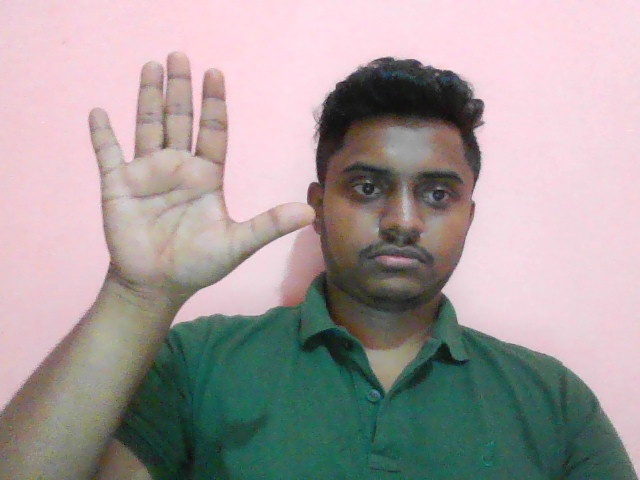Hello: (86, 48, 317, 298)
